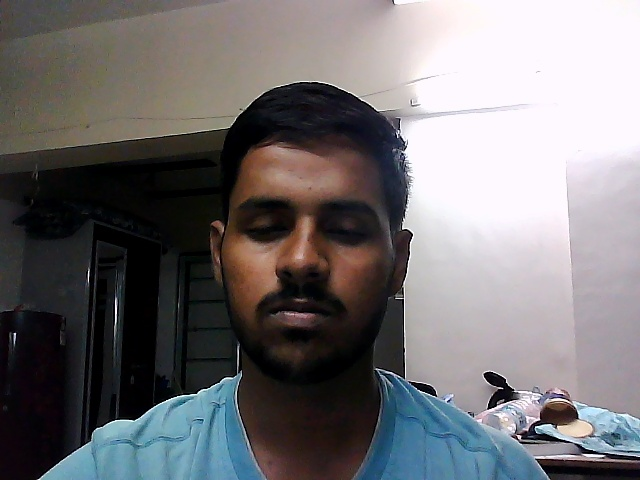drowsy: (188, 69, 428, 383)
